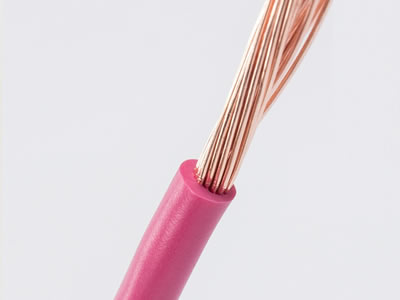Nonrec_Tangler: (108, 1, 338, 287)
